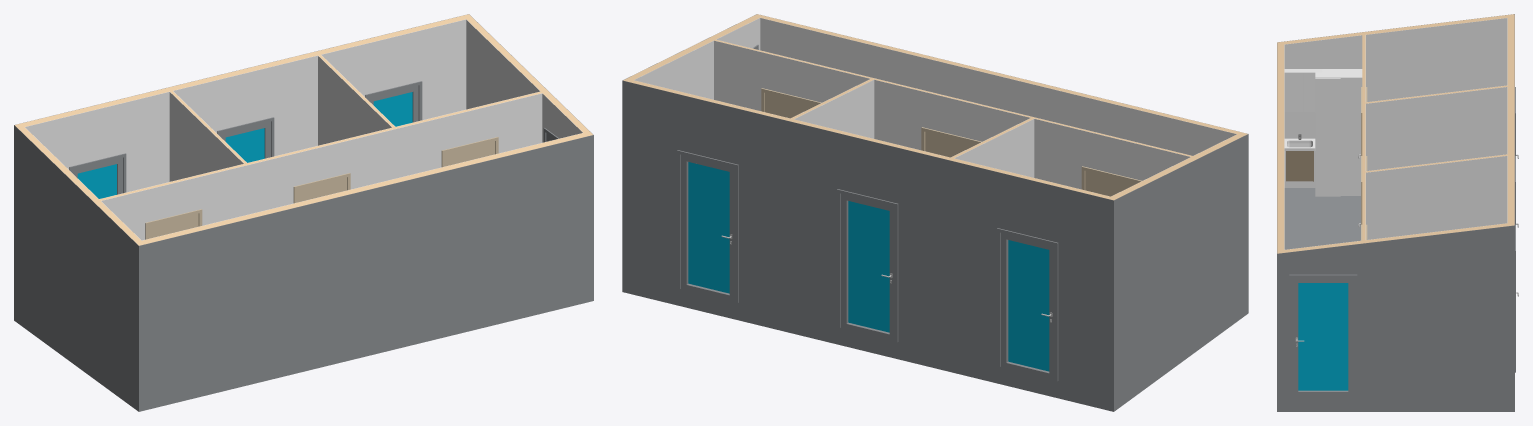
The picture shows the model from 3 angles, left to right: view 1: azimuth 30°, elevation 25°; view 2: azimuth 150°, elevation 25°; view 3: azimuth 270°, elevation 25°; orthographic projection. The views are drawn at different scales.
Parts seen in each view (by area): view 1: IfcBuildingElementPart/Part:2950925, IfcBuildingElementPart/Part:2950930, IfcBuildingElementPart/Part:2950922, IfcBuildingElementPart/Part:2950913, IfcBuildingElementPart/Part:2950927, IfcBuildingElementPart/Part:2950918, IfcBuildingElementPart/Part:2950915, IfcBuildingElementPart/Part:2950932, IfcBuildingElementPart/Part:2950926, IfcDoor/Durys išorinės:900x2100x120 (dešininės):2944154, IfcDoor/Durys išorinės:900x2100x120 (dešininės):2944804, IfcDoor/Durys išorinės:900x2100x120 (dešininės):2944816 (+6 smaller); view 2: IfcBuildingElementPart/Part:2950931, IfcBuildingElementPart/Part:2950922, IfcBuildingElementPart/Part:2950924, IfcDoor/Durys išorinės:900x2100x120 (dešininės):2944804, IfcDoor/Durys išorinės:900x2100x120 (dešininės):2944154, IfcDoor/Durys išorinės:900x2100x120 (dešininės):2944816, IfcBuildingElementPart/Part:2950911, IfcBuildingElementPart/Part:2950910, IfcBuildingElementPart/Part:2950912, IfcBuildingElementPart/Part:2950927, IfcBuildingElementPart/Part:2950915, IfcBuildingElementPart/Part:2950918 (+8 smaller); view 3: IfcBuildingElementPart/Part:2950928, IfcBuildingElementPart/Part:2950921, IfcBuildingElementPart/Part:2950916, IfcBuildingElementPart/Part:2950919, IfcDoor/Durys išorinės:1000x2100x120 (dešininės):2938899, IfcFurnishingElement/Ikea spinta:750 x 350 x 2100mm:2947526, IfcSlab/Floor:Sumustinis pilnas 145mm:2941675, IfcBuildingElementPart/Part:2950932, IfcBuildingElementPart/Part:2950926, IfcFurnishingElement/Sanitary_Mirrors_Roca_LUNA-600-Mirror-c, IfcFlowTerminal/Kriauklė su čiaupu (vonios mazesne):490x370:, IfcBuildingElementPart/Part:2950929 (+5 smaller).
Boxes of the visible parts, x1,y1,x2,y2 form: IfcBuildingElementPart/Part:2950925: (138, 135, 593, 411); IfcBuildingElementPart/Part:2950930: (25, 19, 466, 192); IfcBuildingElementPart/Part:2950922: (14, 125, 138, 411); IfcBuildingElementPart/Part:2950913: (101, 93, 542, 240); IfcBuildingElementPart/Part:2950927: (466, 19, 582, 142); IfcBuildingElementPart/Part:2950918: (169, 92, 243, 181); IfcBuildingElementPart/Part:2950915: (318, 56, 391, 145); IfcBuildingElementPart/Part:2950932: (15, 14, 472, 128); IfcBuildingElementPart/Part:2950926: (136, 133, 586, 245); IfcDoor/Durys išorinės:900x2100x120 (dešininės):2944154: (69, 153, 126, 198); IfcDoor/Durys išorinės:900x2100x120 (dešininės):2944804: (217, 117, 274, 162); IfcDoor/Durys išorinės:900x2100x120 (dešininės):2944816: (365, 81, 422, 126); IfcBuildingElementPart/Part:2950931: (622, 80, 1113, 411); IfcBuildingElementPart/Part:2950922: (1114, 134, 1248, 411); IfcBuildingElementPart/Part:2950924: (760, 18, 1236, 155); IfcDoor/Durys išorinės:900x2100x120 (dešininės):2944804: (837, 189, 898, 342); IfcDoor/Durys išorinės:900x2100x120 (dešininės):2944154: (997, 228, 1058, 381); IfcDoor/Durys išorinės:900x2100x120 (dešininės):2944816: (677, 150, 738, 302); IfcBuildingElementPart/Part:2950911: (1034, 118, 1190, 189); IfcBuildingElementPart/Part:2950910: (874, 79, 1030, 150); IfcBuildingElementPart/Part:2950912: (714, 40, 870, 110); IfcBuildingElementPart/Part:2950927: (634, 18, 760, 99); IfcBuildingElementPart/Part:2950915: (794, 80, 874, 138); IfcBuildingElementPart/Part:2950918: (954, 119, 1034, 177); IfcBuildingElementPart/Part:2950928: (1277, 225, 1514, 411); IfcBuildingElementPart/Part:2950921: (1284, 18, 1507, 187); IfcBuildingElementPart/Part:2950916: (1366, 156, 1507, 239); IfcBuildingElementPart/Part:2950919: (1366, 87, 1507, 170); IfcDoor/Durys išorinės:1000x2100x120 (dešininės):2938899: (1289, 274, 1357, 396); IfcFurnishingElement/Ikea spinta:750 x 350 x 2100mm:2947526: (1315, 69, 1362, 196); IfcSlab/Floor:Sumustinis pilnas 145mm:2941675: (1284, 188, 1360, 249); IfcBuildingElementPart/Part:2950932: (1507, 14, 1514, 226); IfcBuildingElementPart/Part:2950926: (1277, 41, 1284, 250); IfcFurnishingElement/Sanitary_Mirrors_Roca_LUNA-600-Mirror-c: (1284, 69, 1322, 112); IfcFlowTerminal/Kriauklė su čiaupu (vonios mazesne):490x370:: (1284, 134, 1315, 181); IfcBuildingElementPart/Part:2950929: (1277, 223, 1507, 253).
Bounding box in the file's own units: 807 × 329 × 387.
